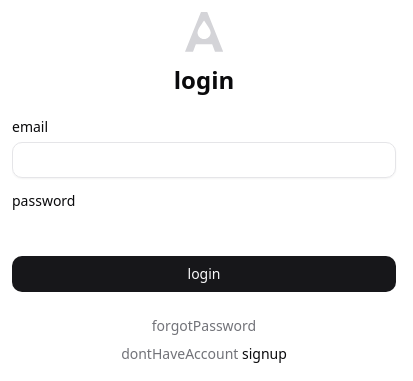
it: LoginForm › can go back to login from signup mode
The width and height of the screenshot is (413, 381).
Click the button "signup".
click(264, 354)  # box 242,344 -> 287,364
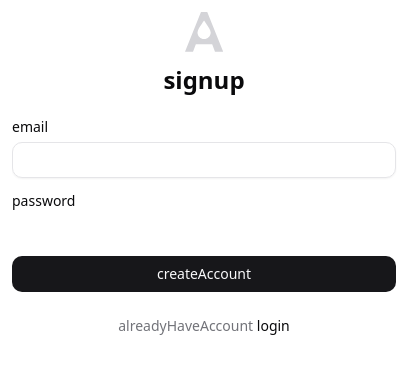
Click the button "login".
click(273, 326)  # box 257,316 -> 290,336
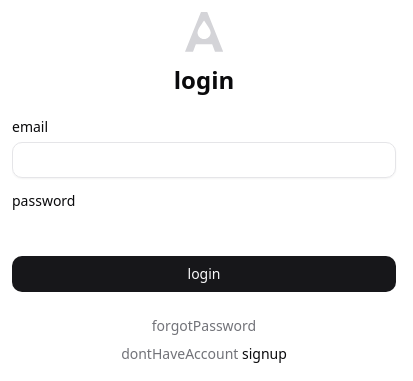
Now the heading "login" is shown, box 174,64 -> 234,96
